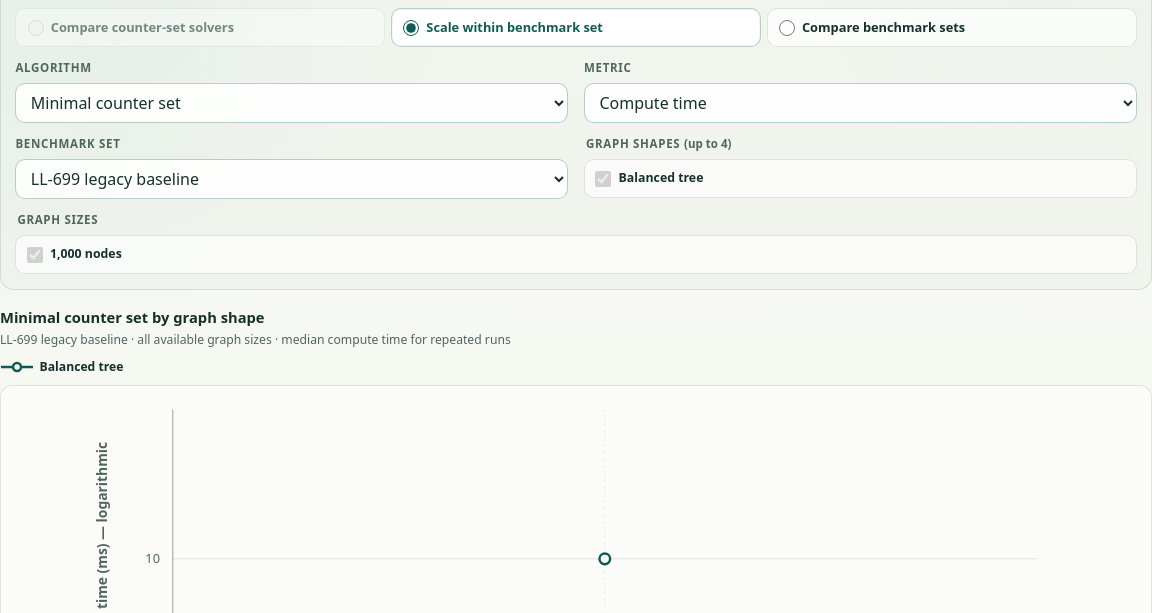
Test case: InsightsLabTrends › excludes only runs missing the selected allocation metric
Select "Managed allocations" in the dropdown labelled "Metric": (860, 103) [584, 83, 1137, 123]
(page scrolled)
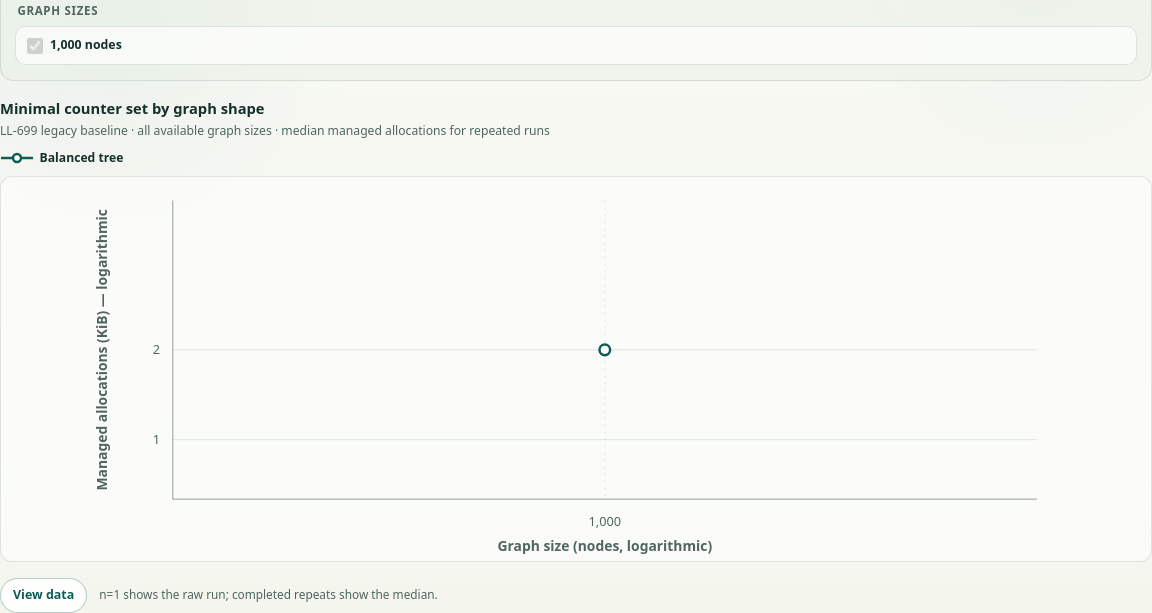
Click the button "View data": (44, 595) [0, 578, 87, 612]
(page scrolled)
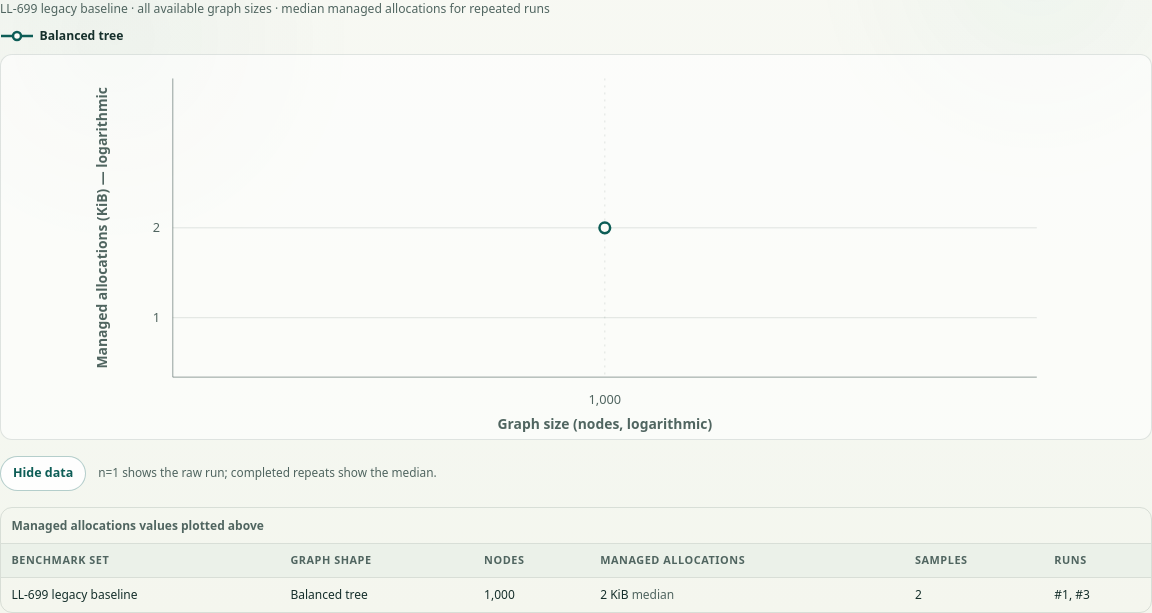
Expected: the table "Managed allocations values plotted above" does not show "#2", [1, 508, 1151, 612]
Now the table "Managed allocations values plotted above" shows "#1, #3", box [1054, 586, 1090, 603]
Now the cell "2" is shown, box [905, 577, 1044, 612]
